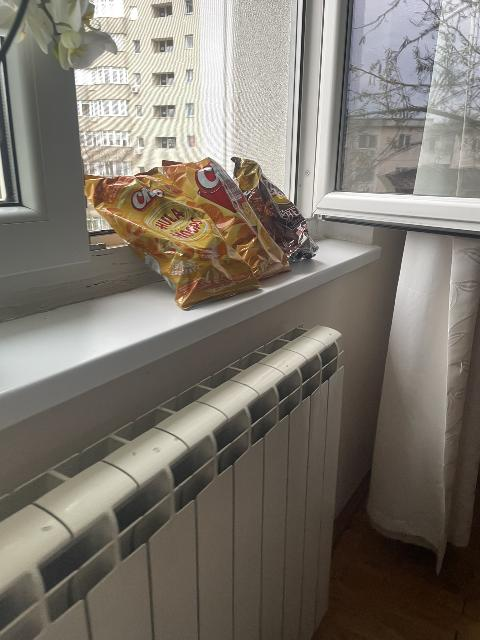Chio Cascaval 125g: (162, 158, 288, 284)
Chio Hula Hoops Cheese 70g: (82, 166, 261, 309)
Lays Beef Grilled Ribs 125g: (232, 153, 320, 263)
